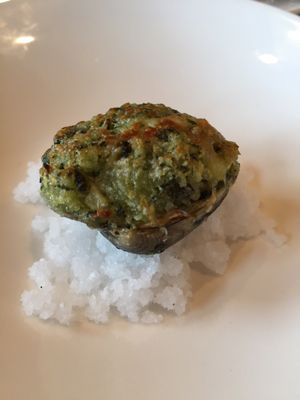curry: (38, 101, 241, 255)
